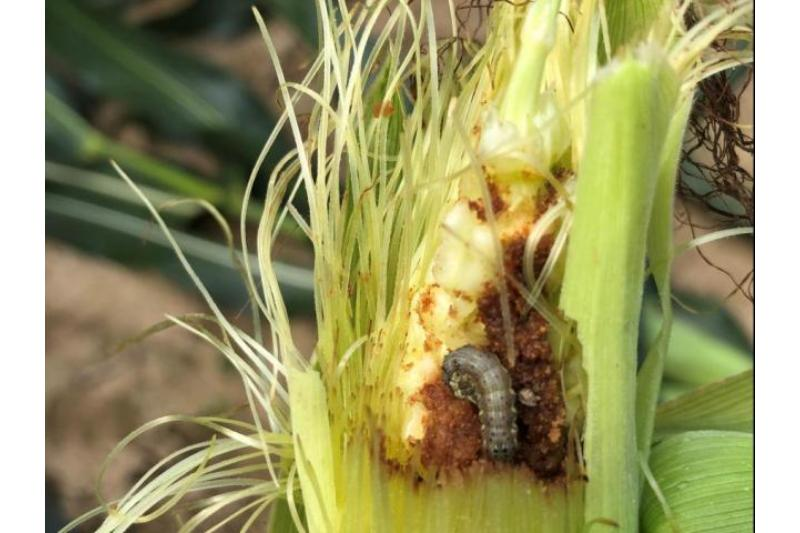fall-armyworm: (444, 347, 520, 465)
